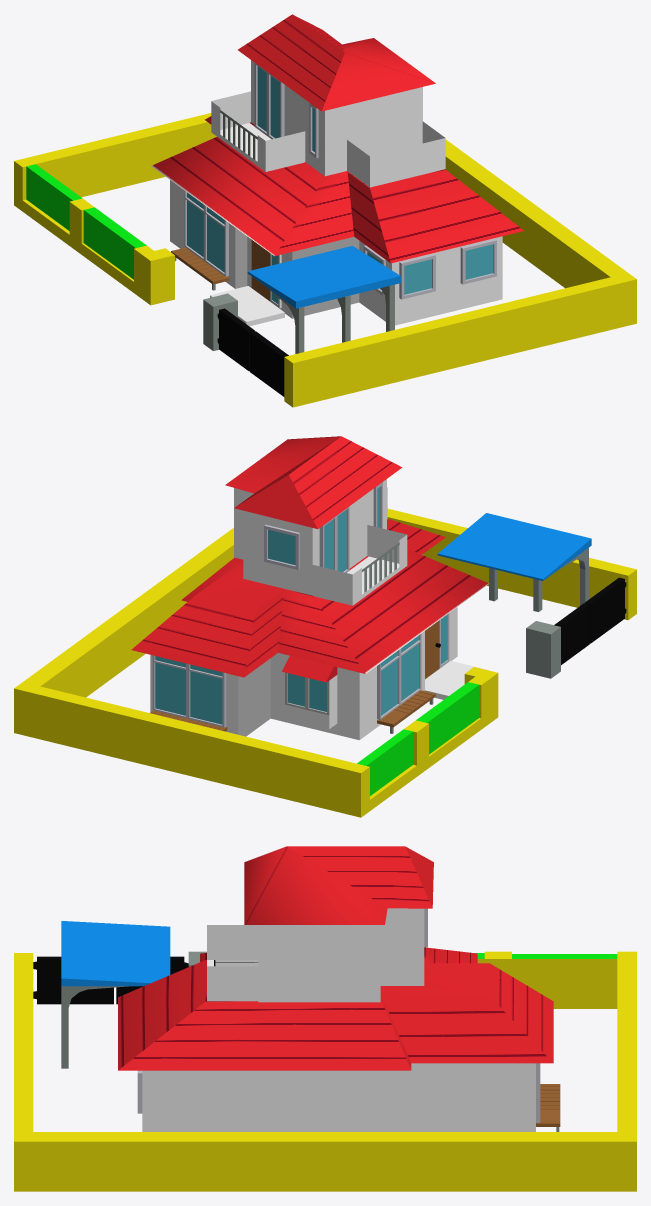
The model's file is Sinchan.fbx.
3 renders of one model, top to bottom at view 1: azimuth 30°, elevation 25°; view 2: azimuth 150°, elevation 25°; view 3: azimuth 270°, elevation 25°, orthographic. The views are drawn at different scales.
Parts seen in each view (by area): view 1: SinchnHouse_LOD0; view 2: SinchnHouse_LOD0; view 3: SinchnHouse_LOD0.
Part boxes in pixels (box(x1,y1,x2,y2)): SinchnHouse_LOD0: box(14, 14, 636, 407); SinchnHouse_LOD0: box(14, 436, 636, 817); SinchnHouse_LOD0: box(14, 846, 636, 1191).
Size of what is drawn, in the model's own units: 8.25 by 5.16 by 11.43.
